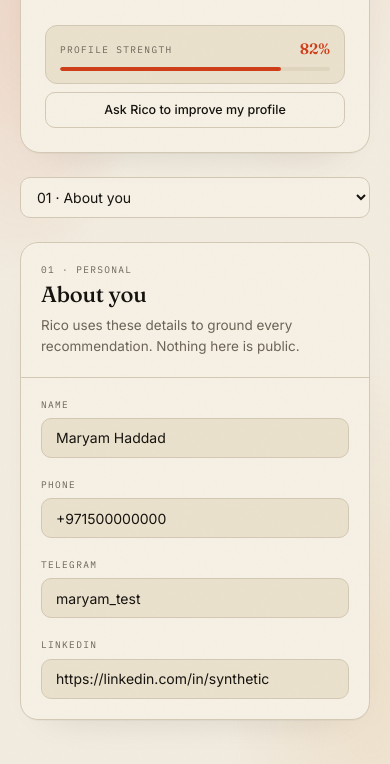
Test: profile editorial — unsaved-edit contract › unsaved field values survive a section switch (and back)
(page scrolled)
Clear the field labelled "Name" at (195, 438), box left=41, top=418, right=349, bottom=458
(page scrolled)
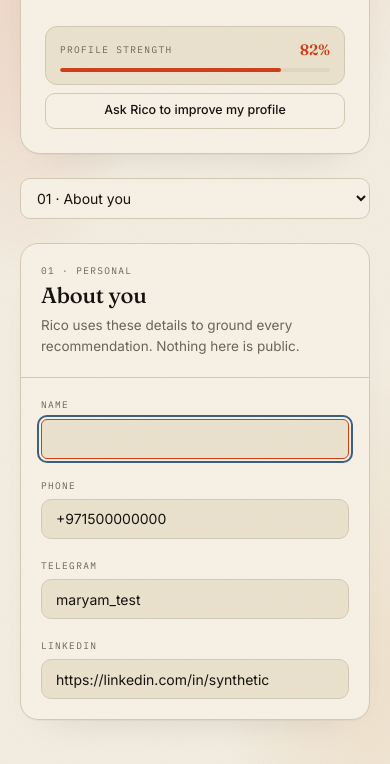
Type "Draft Name" into the field labelled "Name" at (195, 438), box left=41, top=418, right=349, bottom=458
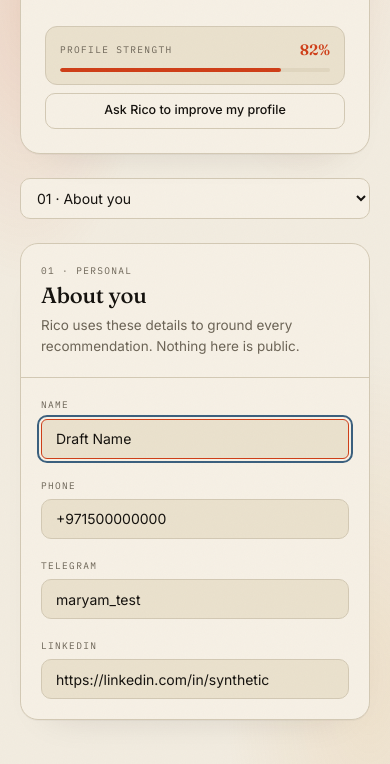
Select "02 · Career" in the dropdown named "Sections" at (195, 198), box left=20, top=178, right=370, bottom=219
(page scrolled)
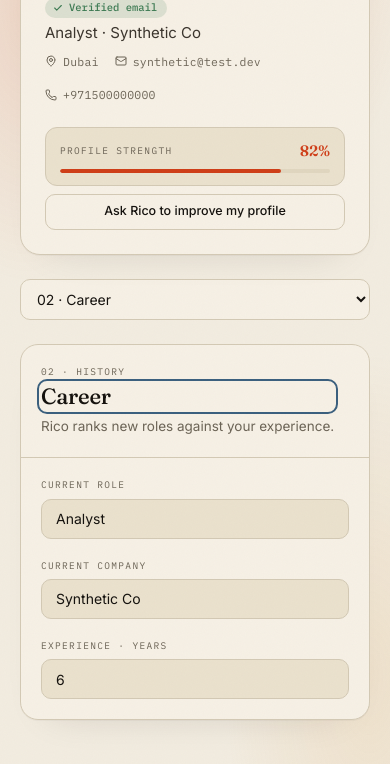
Now the heading "Career" is shown, box left=41, top=382, right=111, bottom=410
Select "01 · About you" in the dropdown named "Sections" at (195, 299), box left=20, top=279, right=370, bottom=320
(page scrolled)
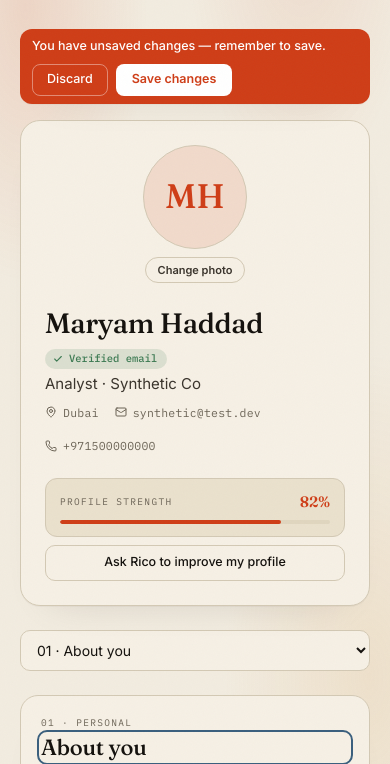
Now the element with test id "profile-ed-savebar" is shown, box left=20, top=29, right=370, bottom=104
Now the heading "About you" is shown, box left=41, top=733, right=146, bottom=761
